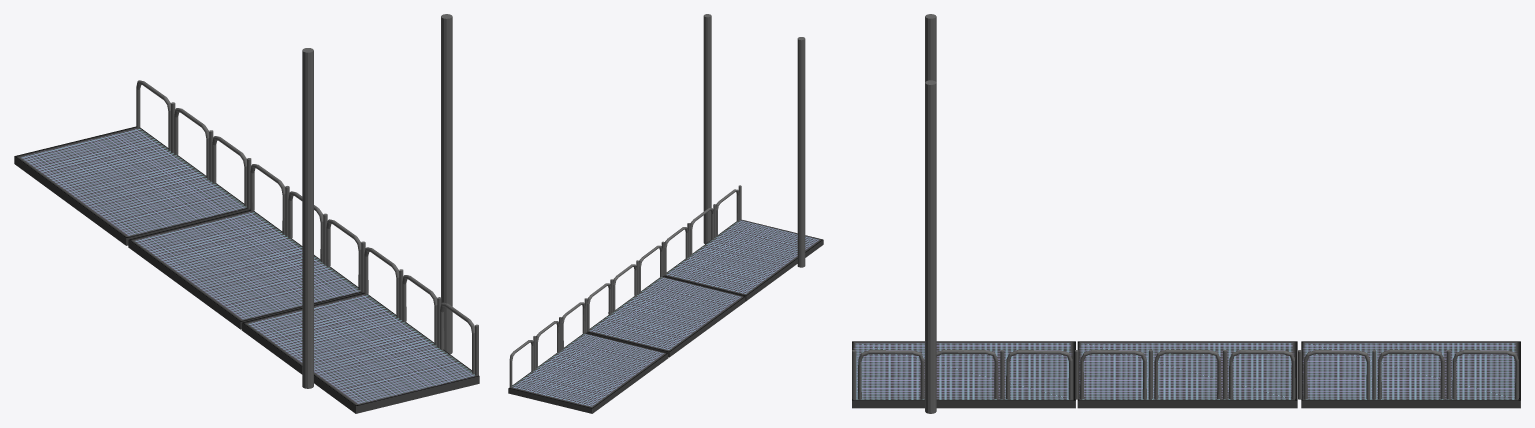
File: scaffolding3.0.fbx
The picture shows the model from 3 angles, left to right: view 1: azimuth 30°, elevation 25°; view 2: azimuth 150°, elevation 25°; view 3: azimuth 270°, elevation 25°; orthographic projection. The views are drawn at different scales.
Visible parts, largest first — view 1: Plane; view 2: Plane; view 3: Plane.
Boxes of the visible parts, x1,y1,x2,y2 form: Plane: (14, 14, 479, 413); Plane: (508, 14, 823, 413); Plane: (852, 14, 1520, 413).
Size of the model in its own units: 240 by 518 by 955.
